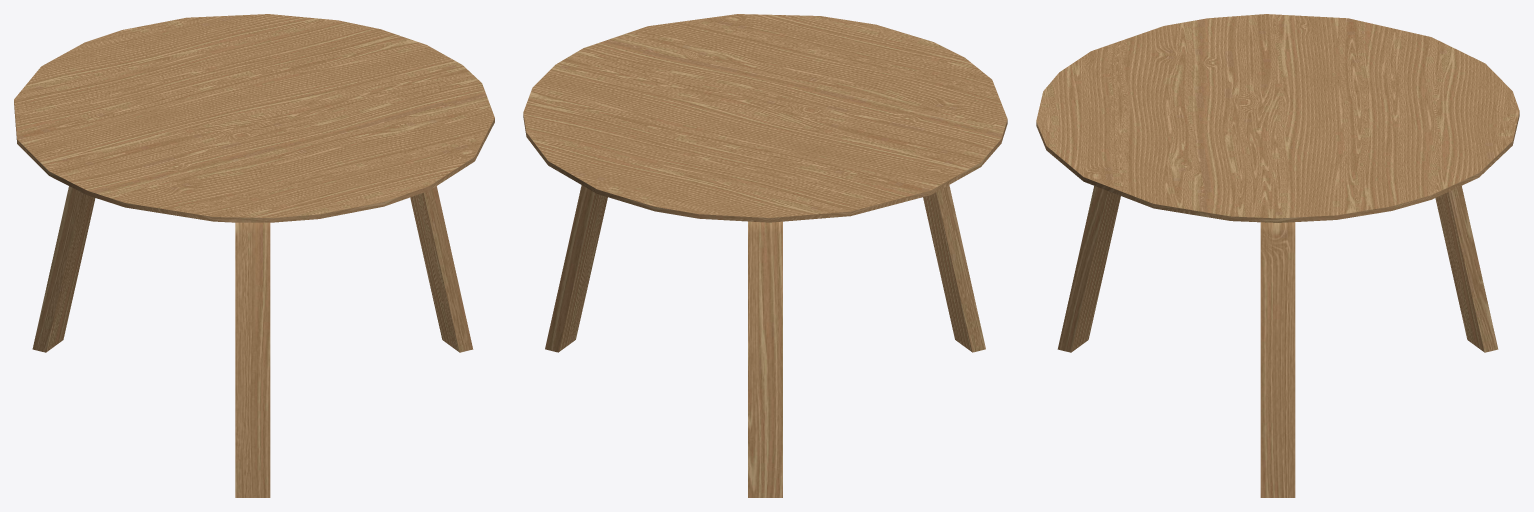
3 views of the same model, side by side, from view 1: azimuth 30°, elevation 25°; view 2: azimuth 150°, elevation 25°; view 3: azimuth 270°, elevation 25° (orthographic).
Parts seen in each view (by area): view 1: Bella Coffee Table; view 2: Bella Coffee Table; view 3: Bella Coffee Table.
Boxes of the visible parts, x1,y1,x2,y2 form: Bella Coffee Table: [14, 14, 494, 497]; Bella Coffee Table: [523, 14, 1007, 497]; Bella Coffee Table: [1036, 14, 1519, 497].
Bounding box in the file's own units: 0.6025 × 0.381 × 0.5993.
1 material, 1 textured.
